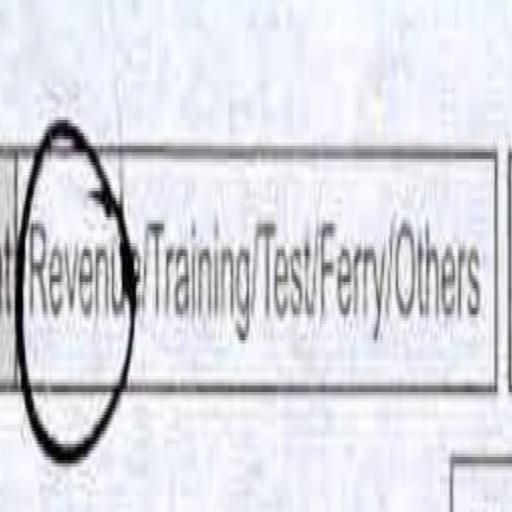check: (16, 84, 139, 492)
